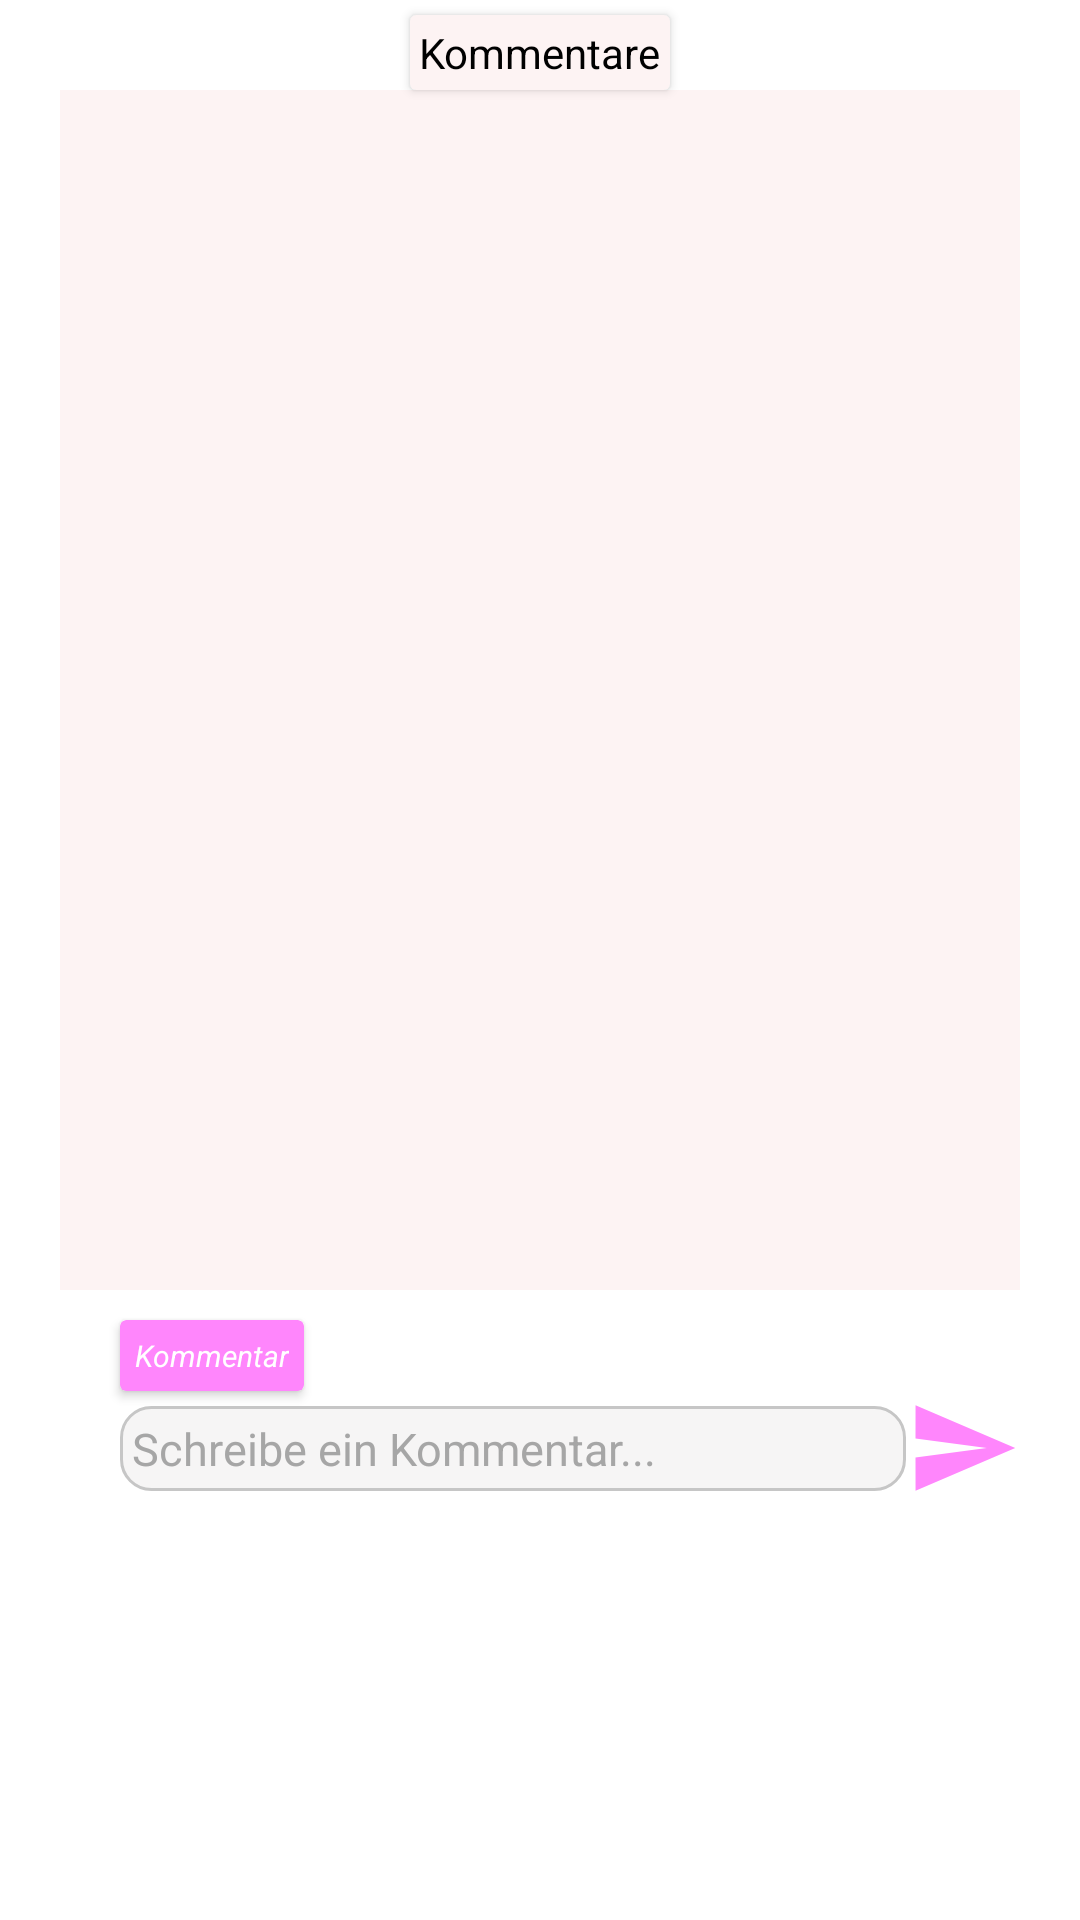

Screen size 1080px×1920px. Icon name, then its box in pixels as (x1, y1, x2, y2):
send: (915, 1405, 1015, 1491)
